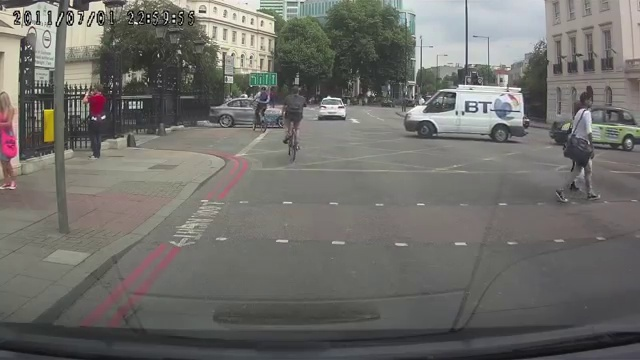cyclist_back: (280, 83, 309, 164), (252, 87, 270, 133)
